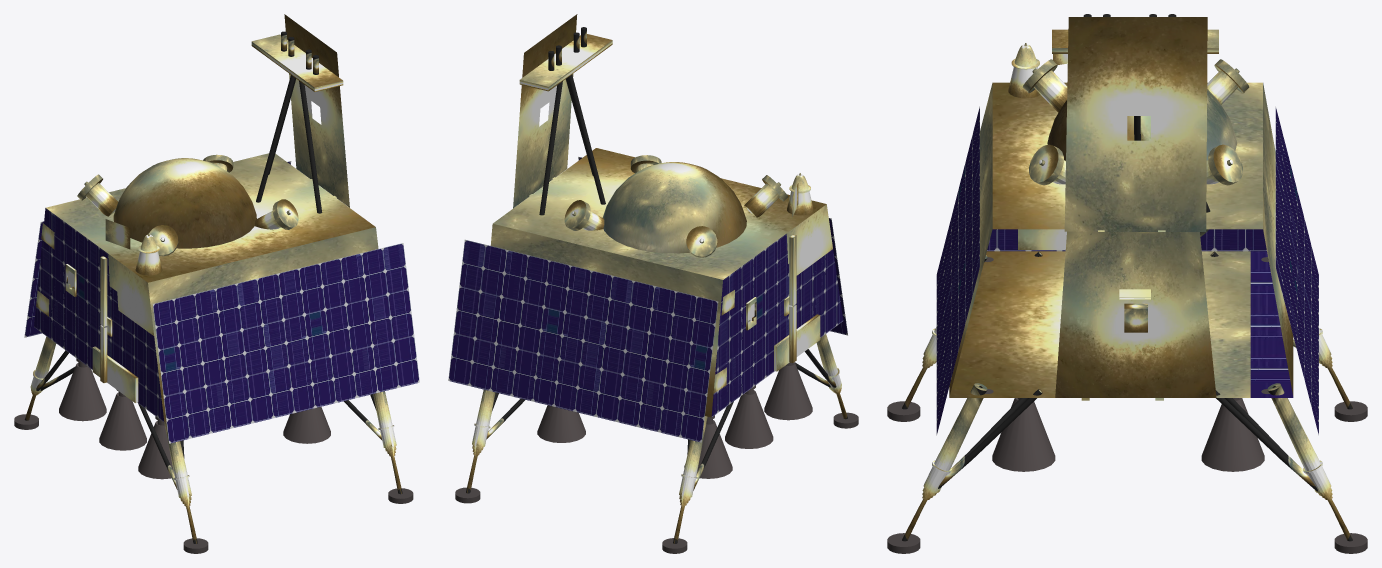
The model's file is vikram.glb.
The picture shows the model from 3 angles, left to right: view 1: azimuth 30°, elevation 25°; view 2: azimuth 150°, elevation 25°; view 3: azimuth 270°, elevation 25°; orthographic projection. The views are drawn at different scales.
Visible parts, largest first — view 1: Object_4, Object_6, Object_9, Object_7; view 2: Object_4, Object_6, Object_9, Object_7; view 3: Object_4, Object_6, Object_9, Object_7.
Boxes of the visible parts, <box> form: Object_4: <box>24,14,402,543</box>; Object_6: <box>24,161,419,443</box>; Object_9: <box>59,358,330,479</box>; Object_7: <box>14,414,413,553</box>; Object_4: <box>466,14,847,543</box>; Object_6: <box>448,157,847,442</box>; Object_9: <box>537,362,812,478</box>; Object_7: <box>455,412,858,553</box>; Object_4: <box>902,14,1352,541</box>; Object_6: <box>936,106,1318,435</box>; Object_9: <box>992,398,1264,471</box>; Object_7: <box>887,257,1367,553</box>.
Bounding box in the file's own units: 159 × 236 × 194.
6 materials, 2 textured.
